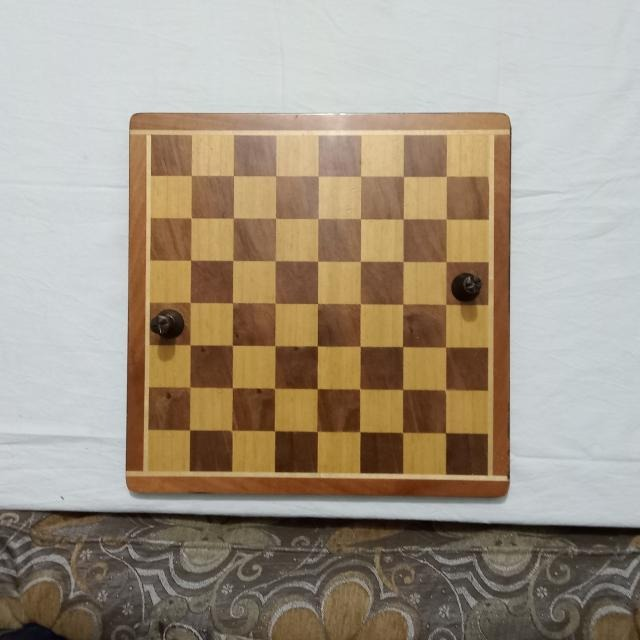black-rook: (148, 306, 184, 340), (451, 272, 485, 304)
